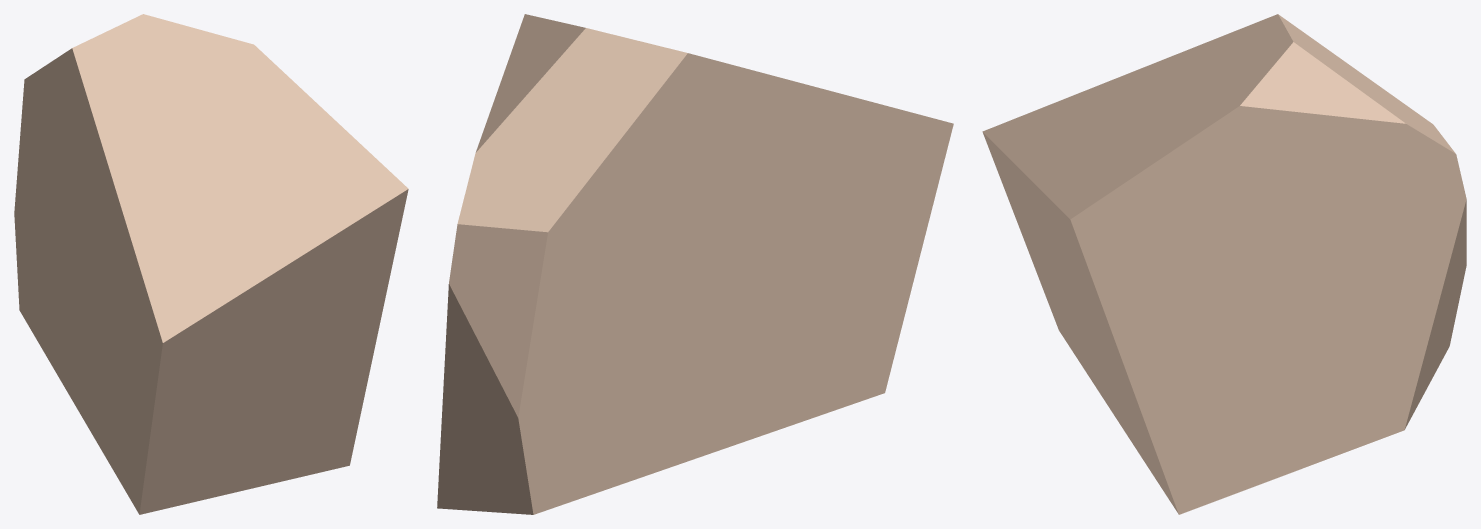
Rendered from rock_06.fbx.
The picture shows the model from 3 angles, left to right: view 1: azimuth 30°, elevation 25°; view 2: azimuth 150°, elevation 25°; view 3: azimuth 270°, elevation 25°; orthographic projection. The views are drawn at different scales.
Parts seen in each view (by area): view 1: rock_06; view 2: rock_06; view 3: rock_06.
Part boxes in pixels (left/top/right/bottom): rock_06: left=14, top=14, right=408, bottom=514; rock_06: left=437, top=14, right=953, bottom=514; rock_06: left=982, top=14, right=1466, bottom=514.
Size of the model in its own units: 30.62 by 44.04 by 47.39.
1 material, 1 textured.
